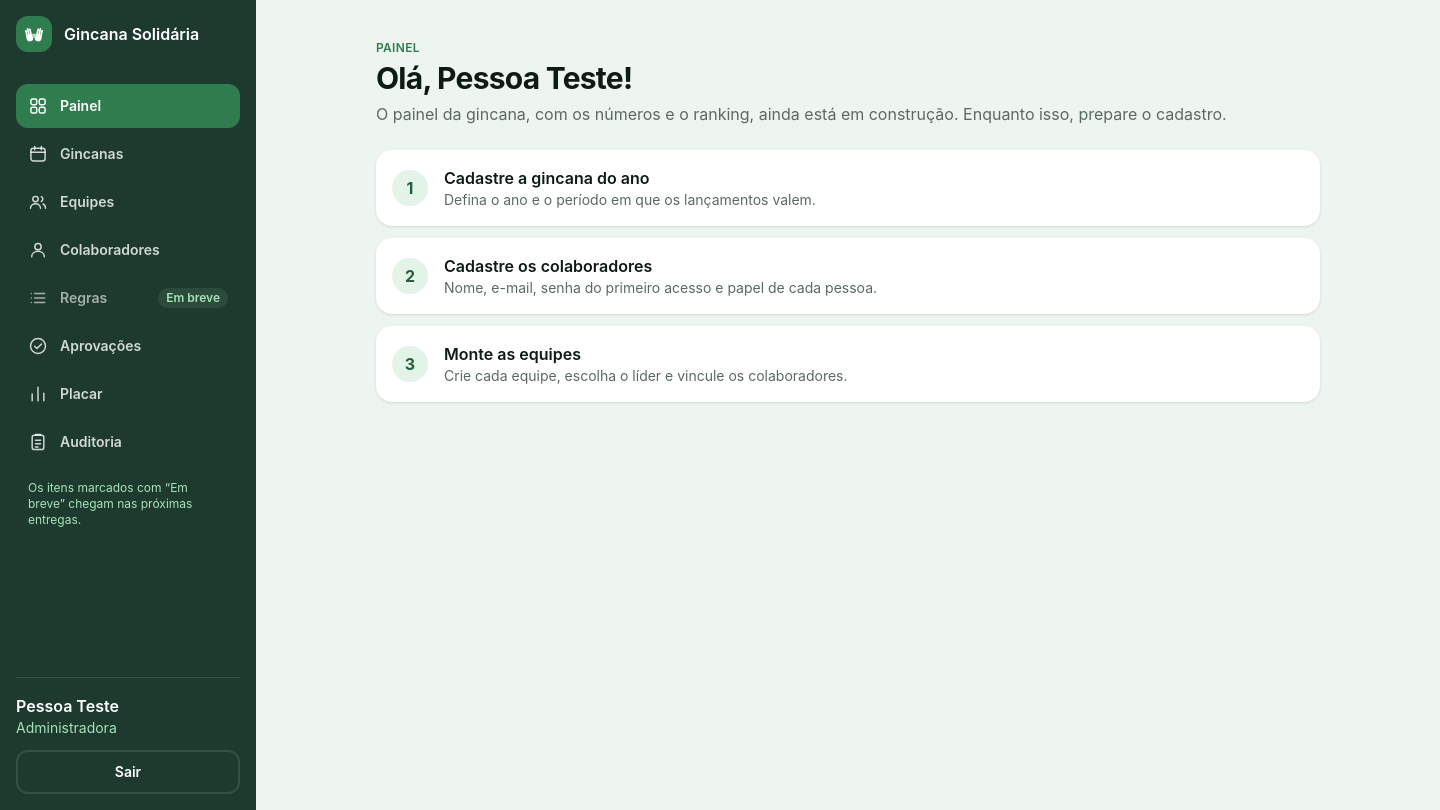
it: Layout da administradora › menu lateral › navega entre as telas e marca a atual
The width and height of the screenshot is (1440, 810).
Expected: the heading "Olá, Pessoa Teste!" is shown, top-left (376, 60), bottom-right (632, 96)
Click the link "Equipes": (71, 202) top-left (28, 192), bottom-right (114, 212)
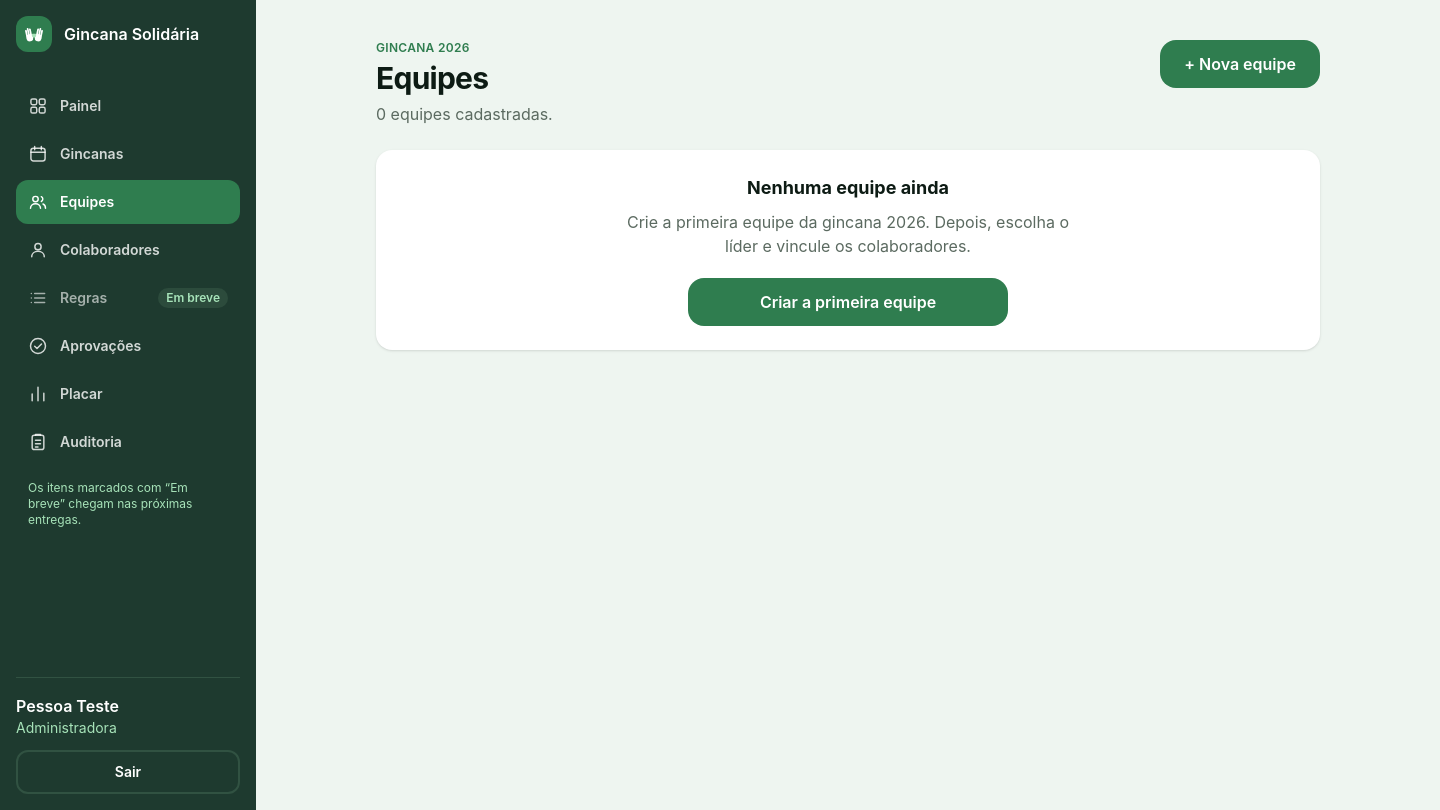
Now the heading "Equipes" is shown, box top-left (376, 60), bottom-right (488, 96)
